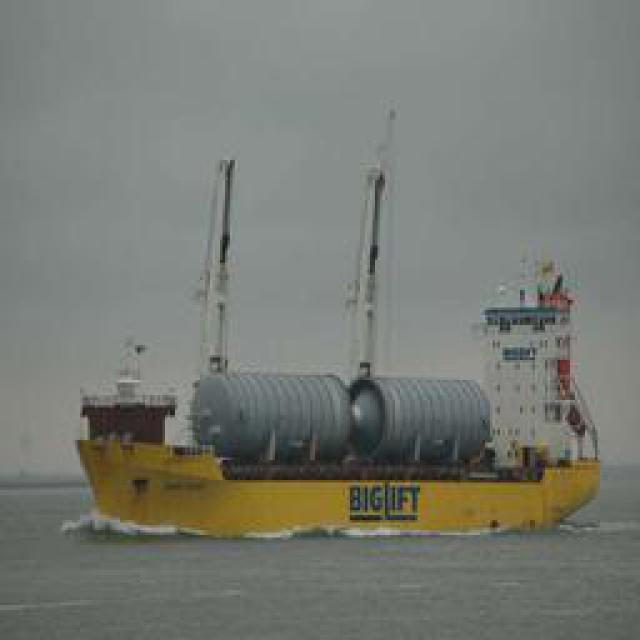Ship: (61, 262, 611, 542)
